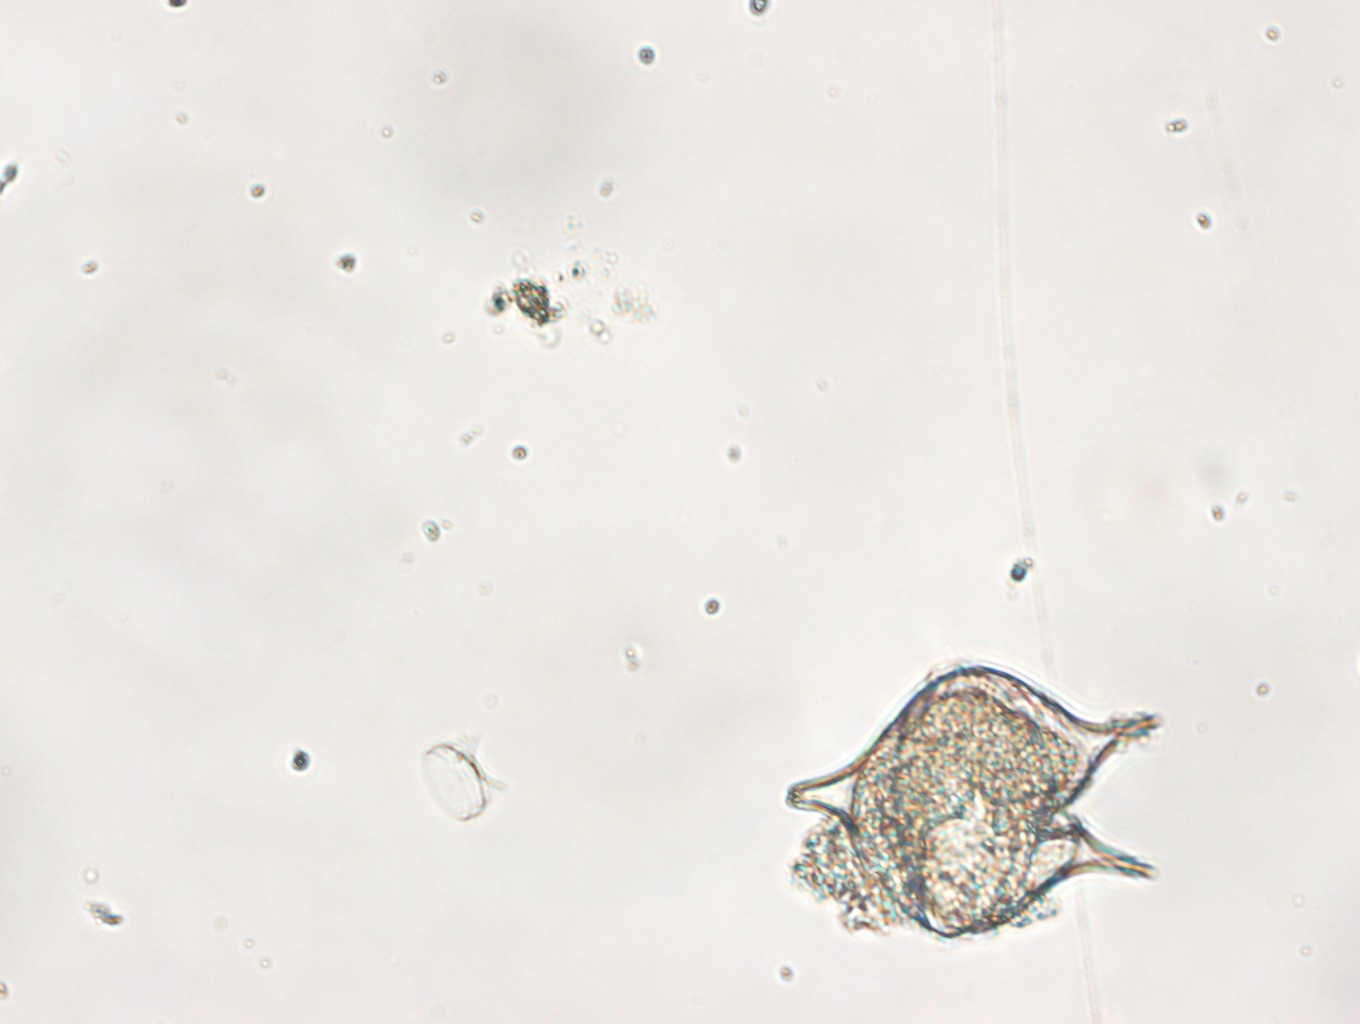protoperidinium: (788, 662, 1165, 942)
